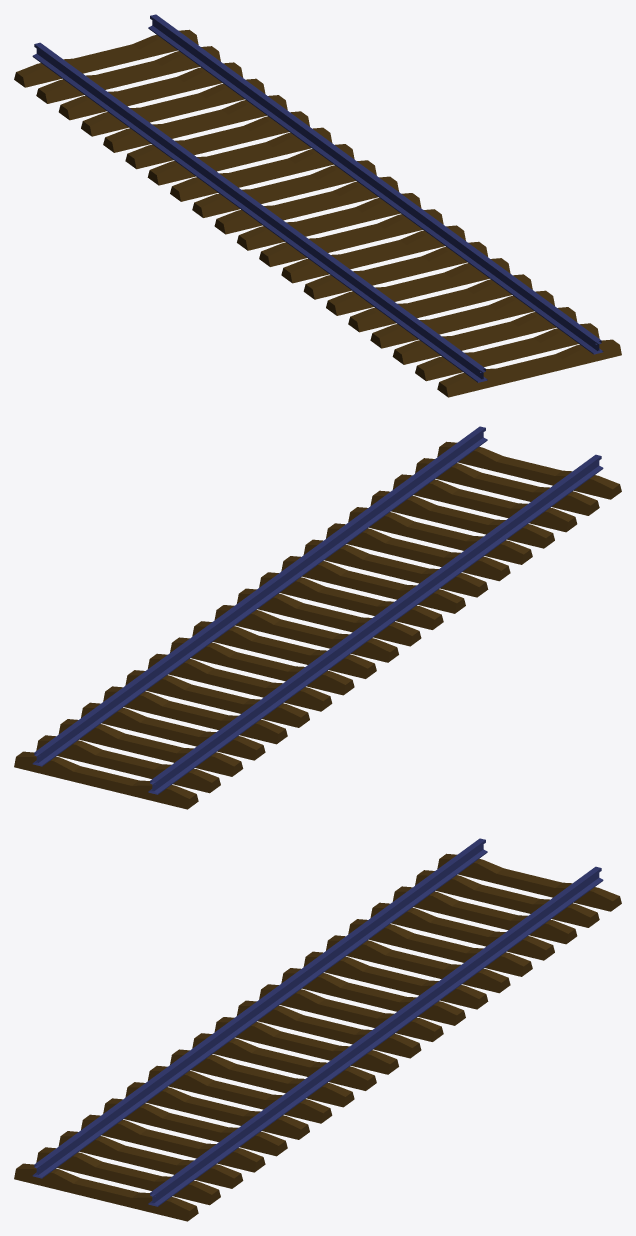
Rendered from SM_Rails_12m.fbx.
The picture shows the model from 3 angles, top to bottom: view 1: azimuth 30°, elevation 25°; view 2: azimuth 150°, elevation 25°; view 3: azimuth 330°, elevation 25°; orthographic projection.
Visible parts, largest first — view 1: SM_Rails_12m_LOD0; view 2: SM_Rails_12m_LOD0; view 3: SM_Rails_12m_LOD0.
Boxes of the visible parts, left/top/right/bottom form: SM_Rails_12m_LOD0: left=14, top=14, right=621, bottom=397; SM_Rails_12m_LOD0: left=14, top=426, right=621, bottom=809; SM_Rails_12m_LOD0: left=14, top=838, right=621, bottom=1221.
Size of what is drawn, in the model's own units: 270 by 37.44 by 1200.
